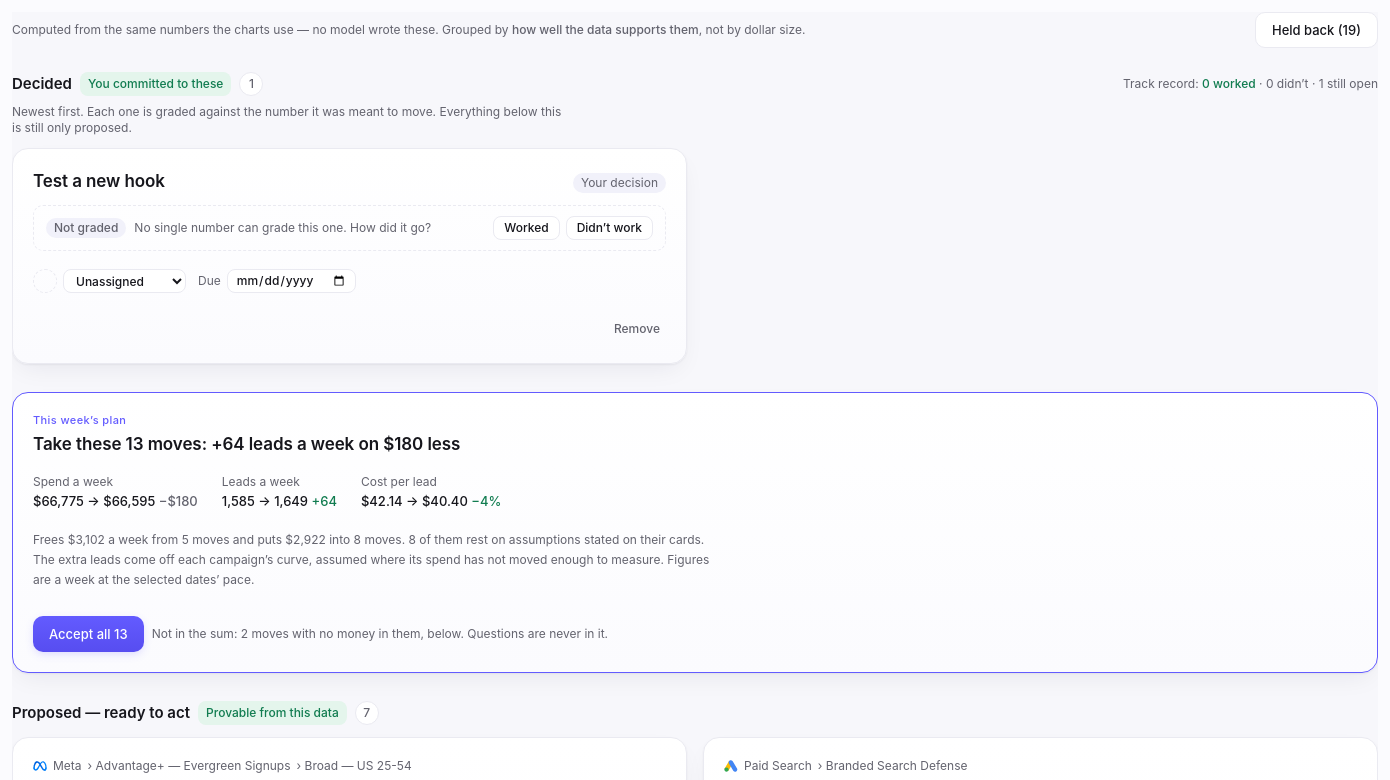
it: taking more than one, and writing your own › a written decision can be removed
Click the button "Remove" at (637, 329), box x1=608 y1=315 x2=666 y2=343
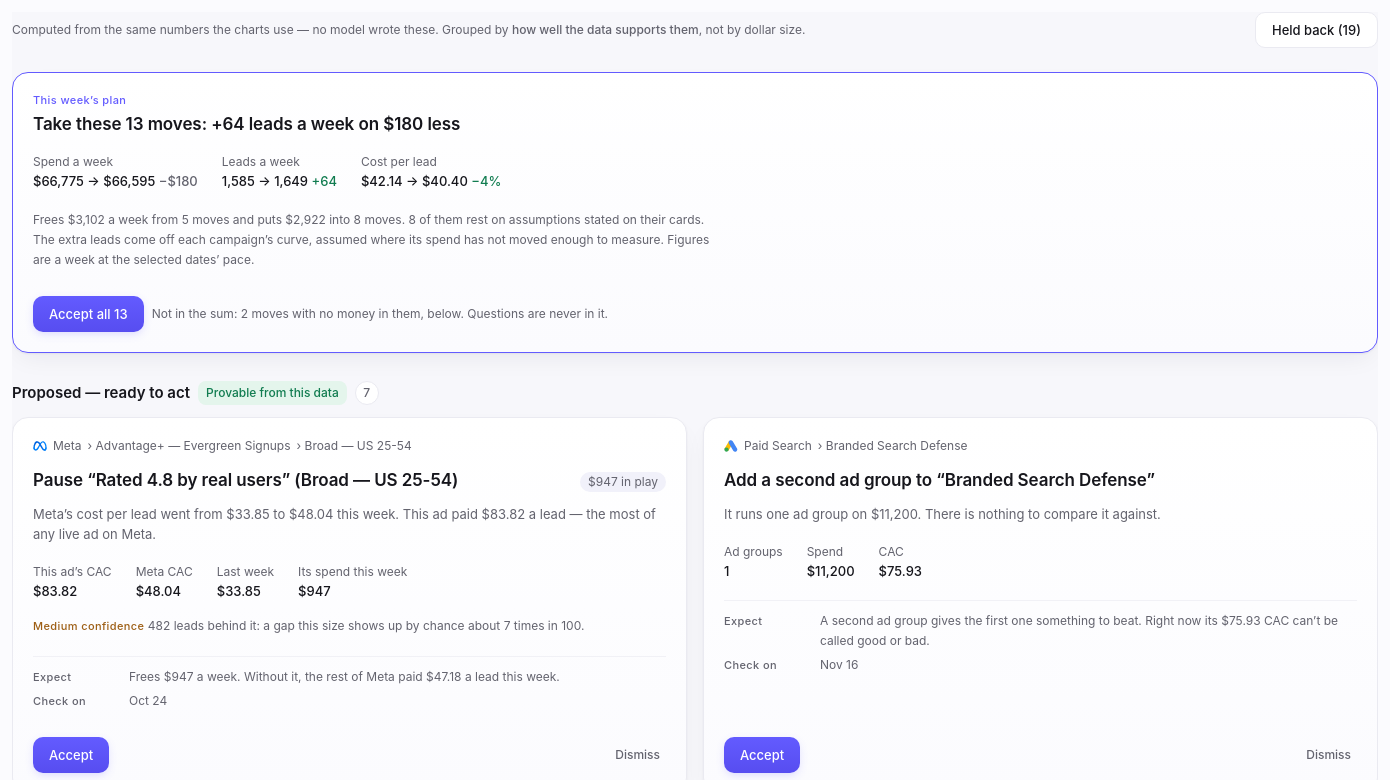
Expected: the heading "Test a new hook" is gone
